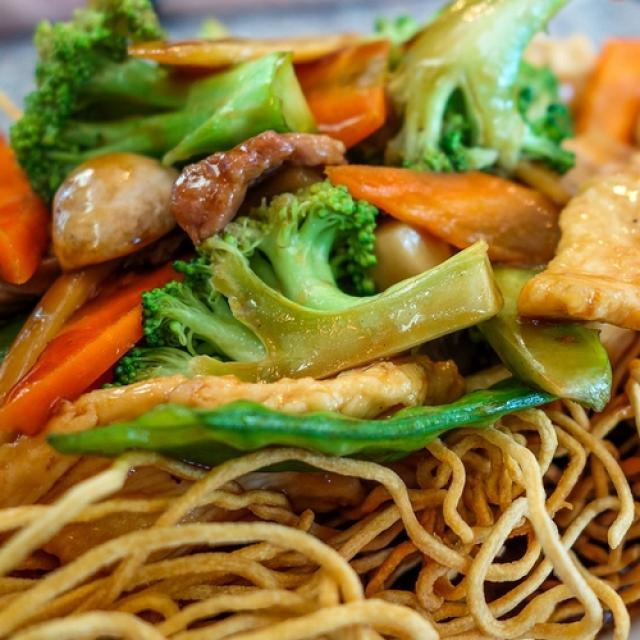面条主食: (22, 32, 613, 616)
